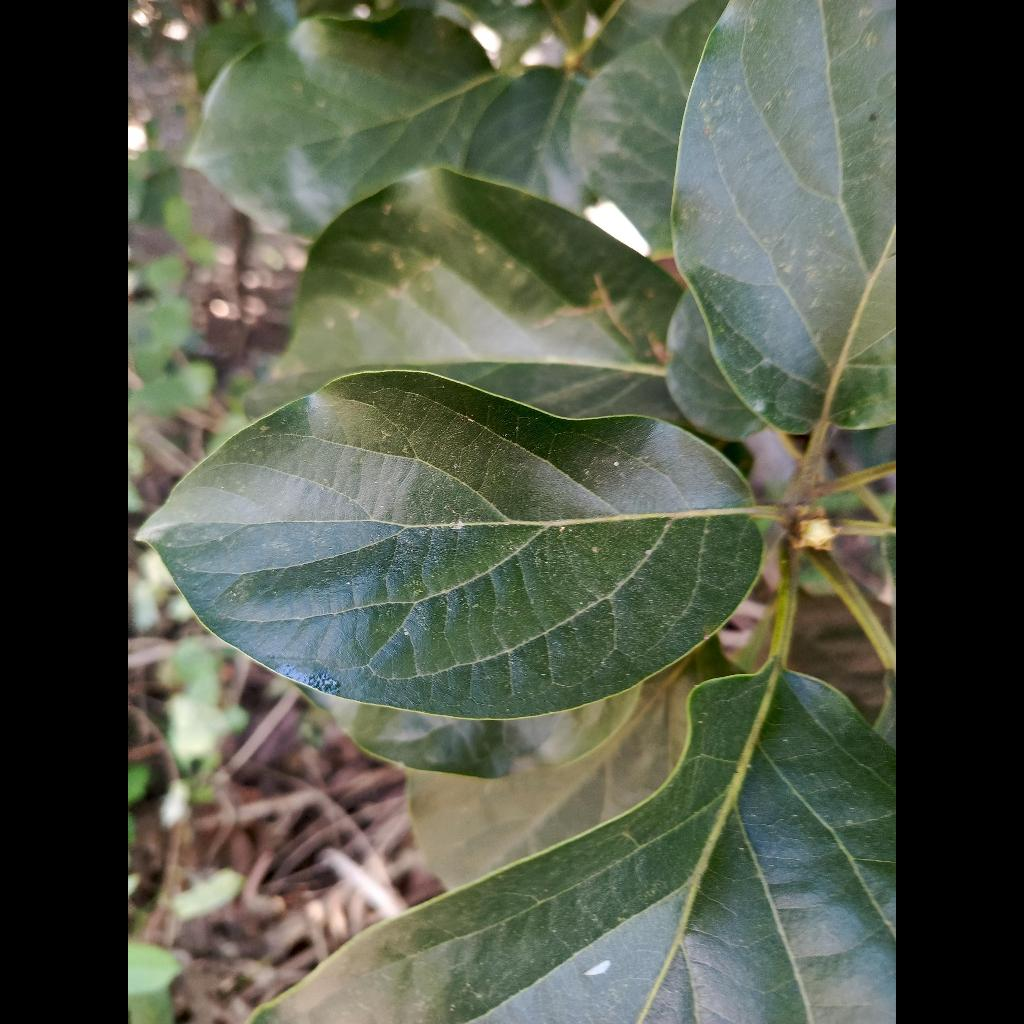hoja_sana: (141, 371, 762, 719)
